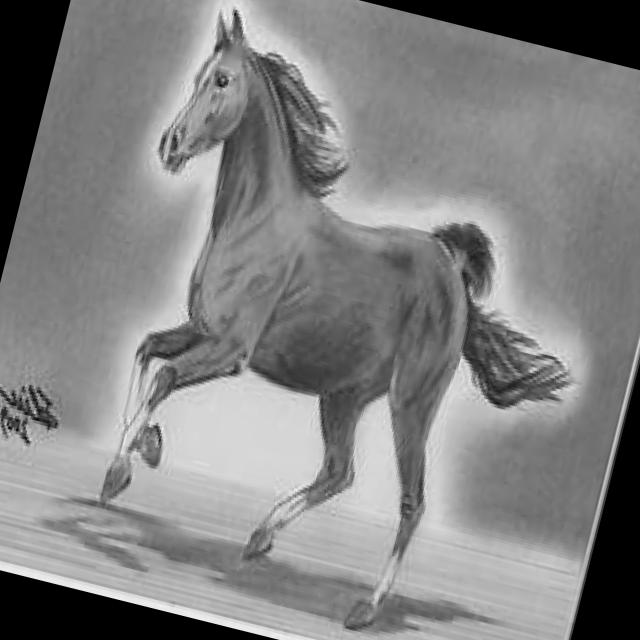animal: (14, 0, 640, 640)
